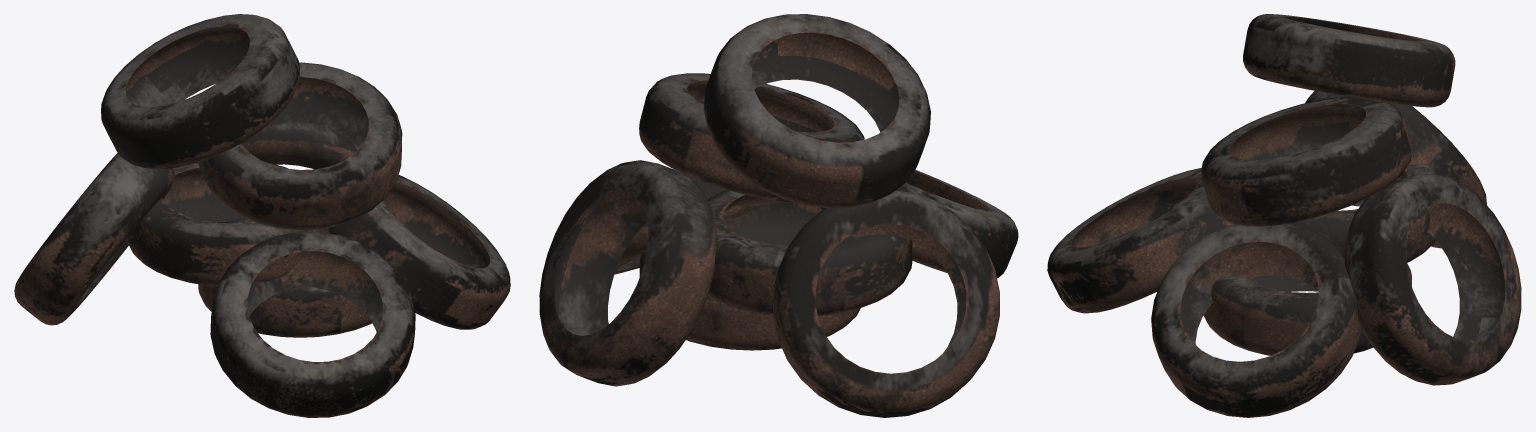
File: pilha_pneus.glb
3 views of the same model, side by side, from view 1: azimuth 30°, elevation 25°; view 2: azimuth 150°, elevation 25°; view 3: azimuth 270°, elevation 25° (orthographic). The views are drawn at different scales.
Visible parts, largest first — view 1: pCylinder26; view 2: pCylinder26; view 3: pCylinder26.
Boxes of the visible parts, x1,y1,x2,y2 form: pCylinder26: (14, 14, 510, 417); pCylinder26: (539, 14, 1018, 417); pCylinder26: (1047, 14, 1521, 417).
Size of the model in its own units: 0.1248 by 0.0832 by 0.1174.
Materials: 1 (1 with a texture image).
